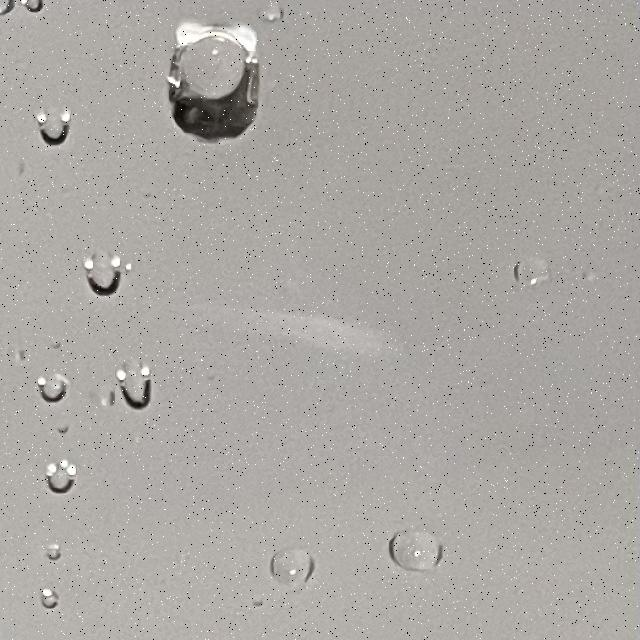raindrop: (139, 16, 282, 140), (253, 542, 325, 595), (380, 521, 460, 568), (91, 354, 155, 407), (23, 366, 83, 422), (20, 107, 76, 158), (36, 451, 94, 500), (74, 255, 131, 299), (512, 243, 556, 292), (31, 574, 67, 622), (38, 536, 79, 577)
